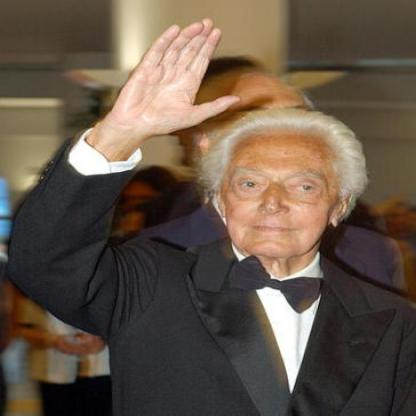face: (222, 116, 342, 263)
